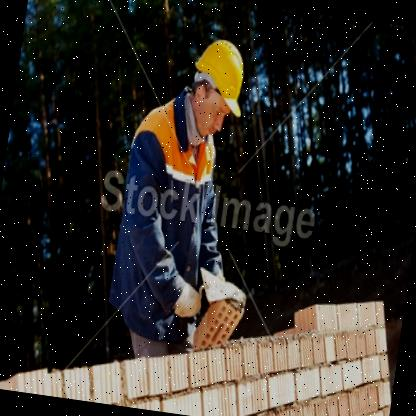capacete: (182, 32, 252, 141)
sem_colete_refletivo: (100, 92, 232, 344)
